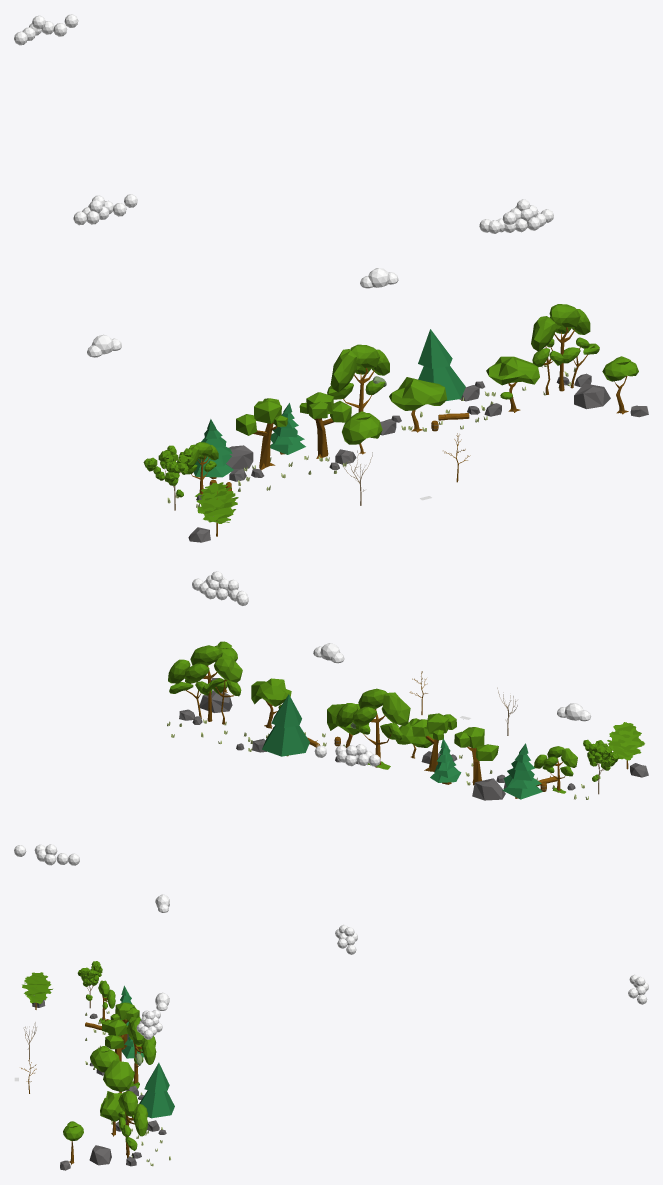
File: low_poly_tree_pack.glb
3 renders of one model, top to bottom at view 1: azimuth 30°, elevation 25°; view 2: azimuth 150°, elevation 25°; view 3: azimuth 270°, elevation 25°, orthographic. The views are drawn at different scales.
Parts seen in each view (by area): view 1: Low_Poly_N, skpEFB7_1, skp7EEA1, skp4847_1, Componen12, Group6, NUVEM1, skp5771_1, skp3703_1, Group27, Group4, NUVEM_1_1 (+5 smaller); view 2: skpEFB7_1, Low_Poly_N, skp7EEA1, skp4847_1, Group4, Componen12, Group6, NUVEM1, skp7EEA_1_, Group27, NUVEM_1_1, skp3703_1 (+5 smaller); view 3: Low_Poly_N, skpEFB7_1, skp4847_1, skp7EEA1, skp5771_1, Group27, Group6, NUVEM1, skp665F1, skp3703_1, NUVEM_1_1, Componen12 (+1 smaller).
Boxes of the visible parts, x1,y1,x2,y2 form: Low_Poly_N: (167, 365, 648, 542); skpEFB7_1: (531, 304, 599, 394); skp7EEA1: (327, 344, 389, 411); skp4847_1: (418, 329, 465, 400); Componen12: (236, 398, 287, 470); Group6: (299, 392, 351, 458); NUVEM1: (479, 199, 553, 233); skp5771_1: (389, 377, 447, 410); skp3703_1: (486, 356, 539, 399); Group27: (196, 482, 238, 523); Group4: (193, 419, 233, 479); NUVEM_1_1: (73, 194, 137, 225); skpEFB7_1: (168, 645, 242, 724); Low_Poly_N: (167, 678, 648, 800); skp7EEA1: (336, 688, 410, 769); skp4847_1: (262, 694, 309, 756); Group4: (502, 743, 542, 799); Componen12: (454, 727, 498, 785); Group6: (412, 713, 456, 771); NUVEM1: (192, 571, 248, 605); skp7EEA_1_: (534, 746, 577, 793); Group27: (607, 722, 644, 760); NUVEM_1_1: (314, 744, 380, 766); skp3703_1: (251, 678, 291, 708); Low_Poly_N: (32, 1000, 170, 1170); skpEFB7_1: (118, 1090, 147, 1157); skp4847_1: (139, 1062, 174, 1118); skp7EEA1: (126, 1017, 156, 1088); skp5771_1: (103, 1060, 134, 1091); Group27: (22, 972, 52, 1003); Group6: (102, 1019, 127, 1061); NUVEM1: (136, 1010, 162, 1039); skp665F1: (90, 1046, 119, 1072); skp3703_1: (100, 1091, 122, 1121); NUVEM_1_1: (335, 924, 357, 954); Componen12: (110, 1002, 139, 1049).
Bounding box in the file's own units: 1736 × 635 × 2641.
